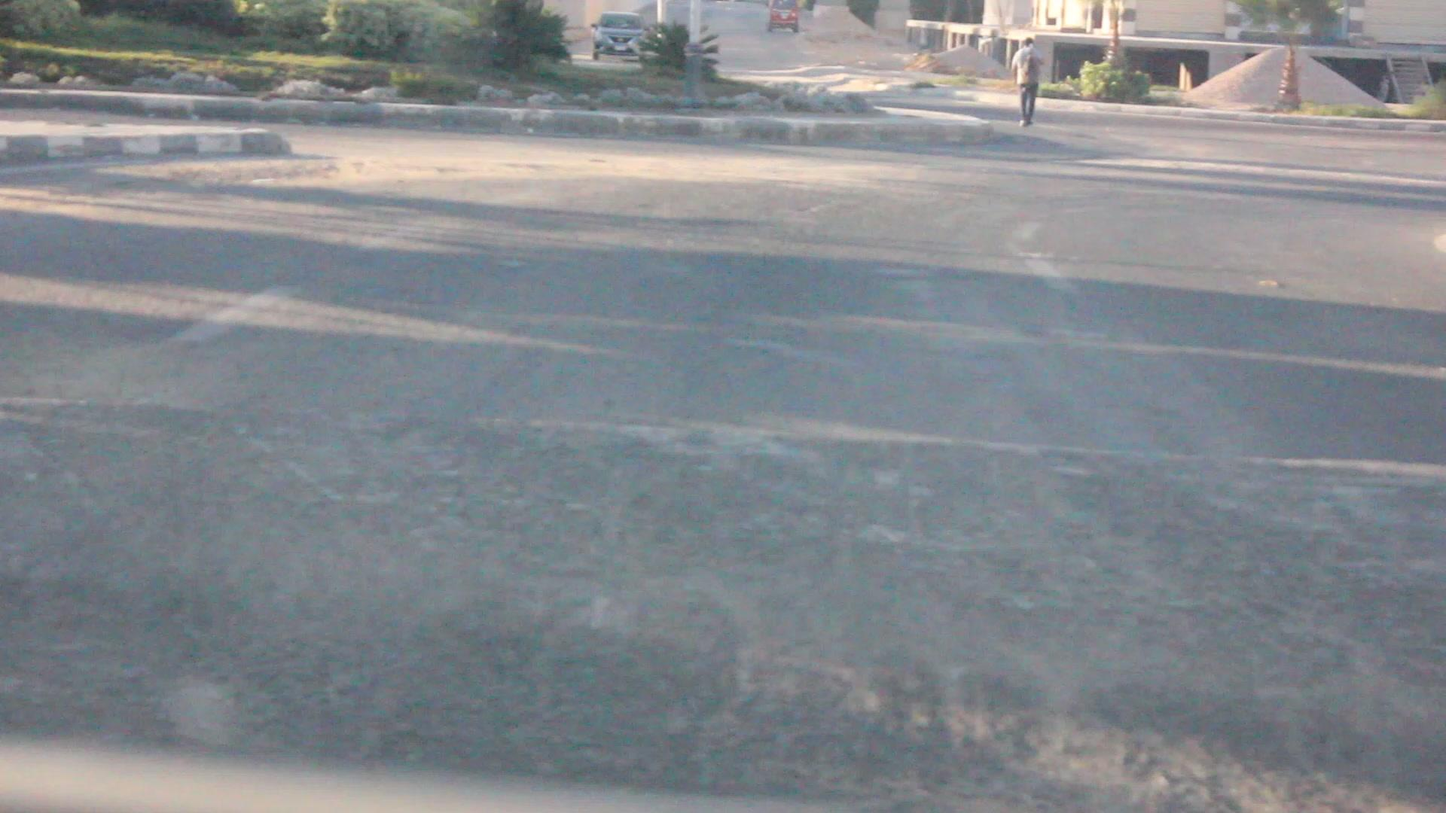Bump: (0, 378, 1446, 813)
